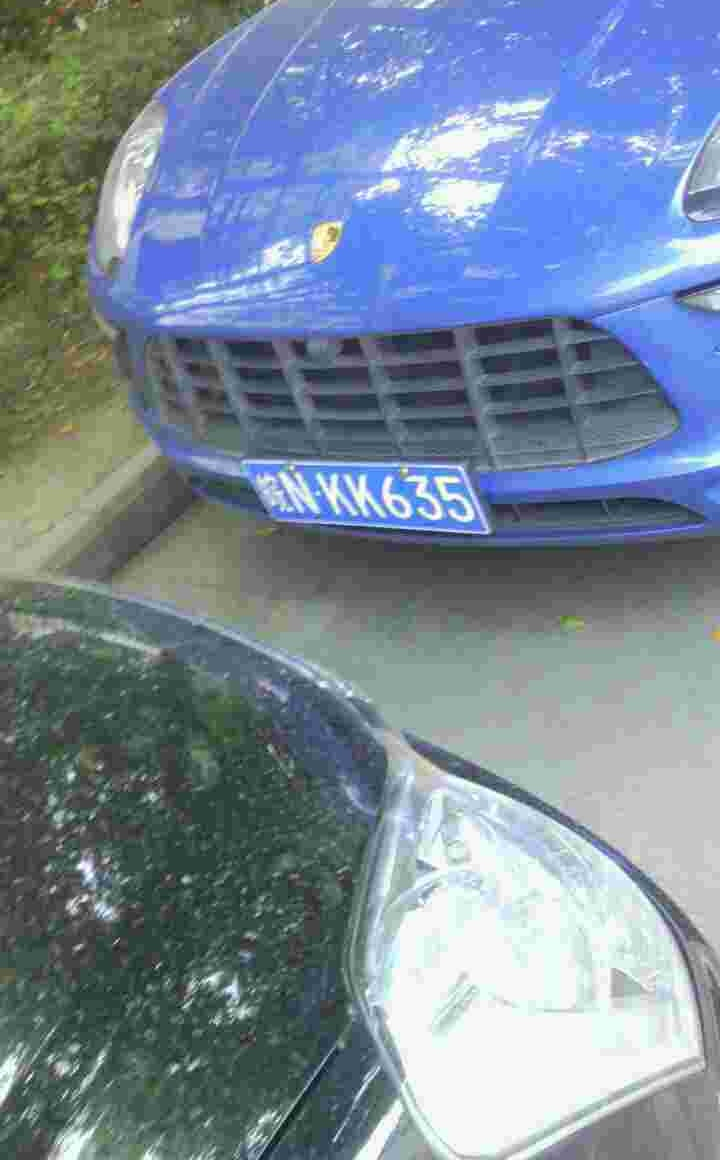car: (244, 454, 494, 549)
